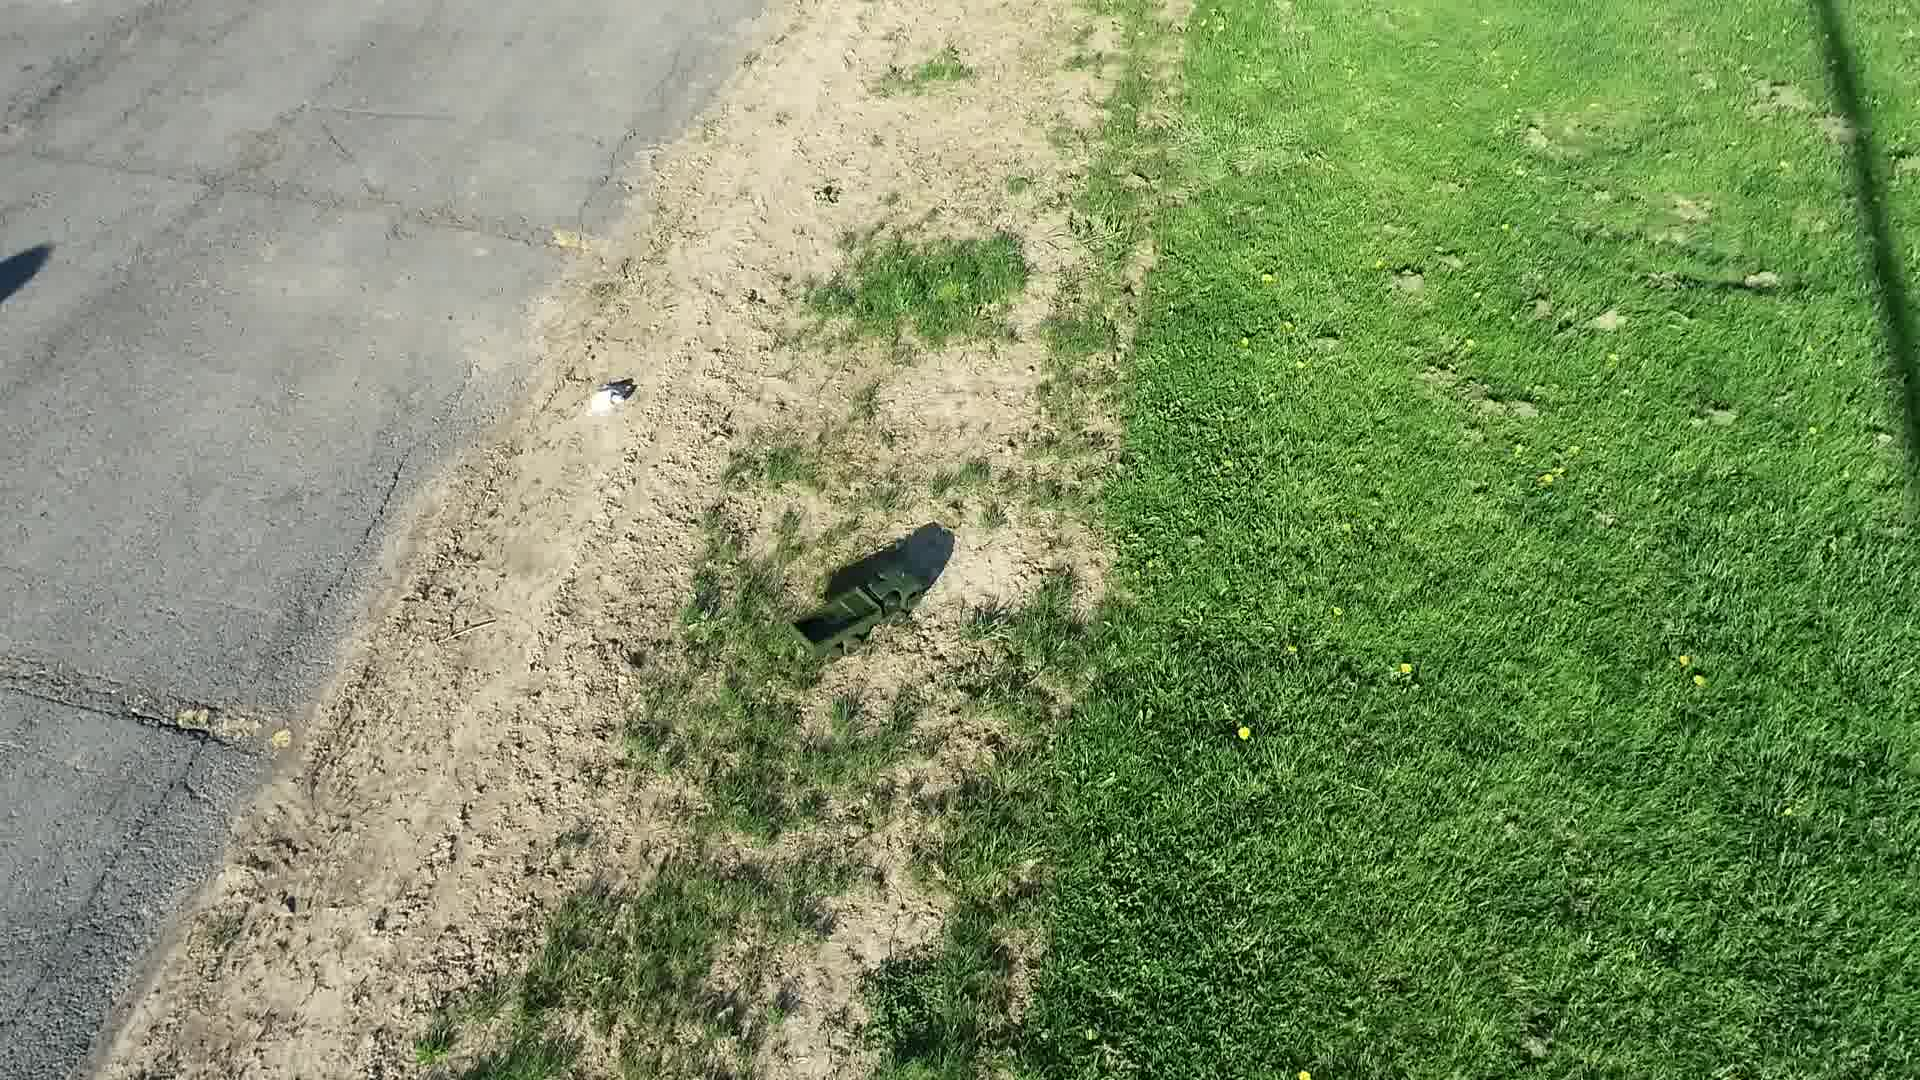transporter9: (786, 559, 924, 663)
